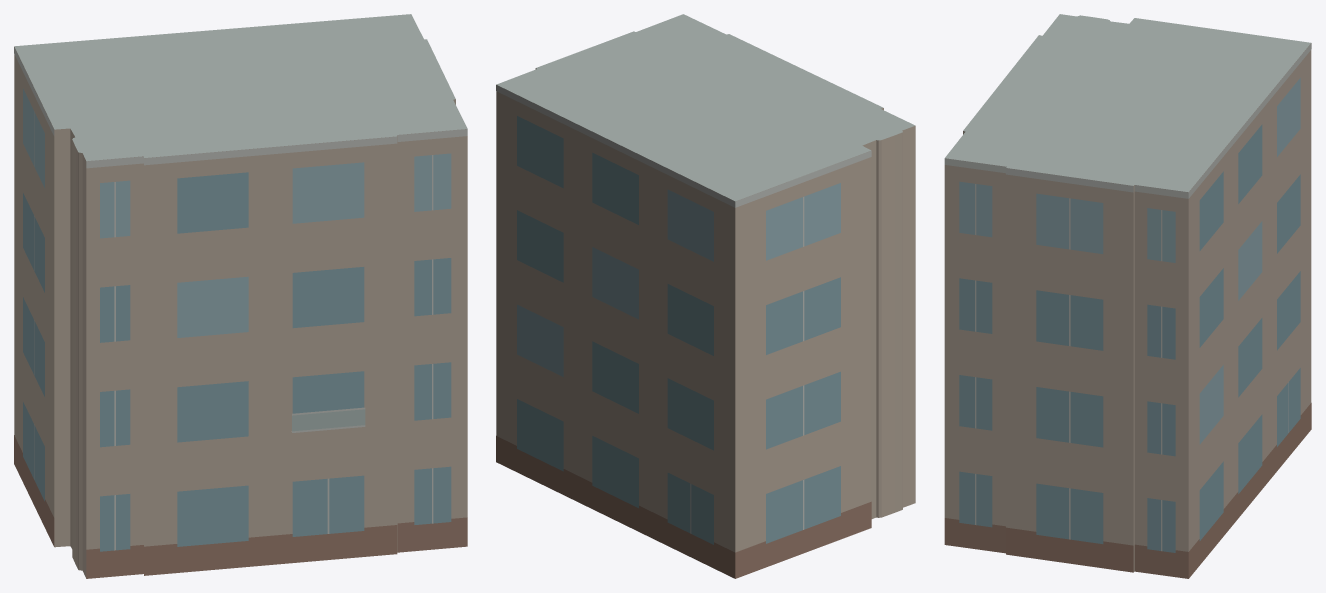
The model's file is survey-upis-32537573.glb.
3 views of the same model, side by side, from view 1: azimuth 30°, elevation 25°; view 2: azimuth 150°, elevation 25°; view 3: azimuth 270°, elevation 25° (orthographic). The views are drawn at different scales.
Parts seen in each view (by area): view 1: survey-upis-32537573.tmp; view 2: survey-upis-32537573.tmp; view 3: survey-upis-32537573.tmp.
Boxes of the visible parts, x1,y1,x2,y2 form: survey-upis-32537573.tmp: [14, 14, 467, 578]; survey-upis-32537573.tmp: [496, 14, 915, 578]; survey-upis-32537573.tmp: [944, 14, 1311, 578].
Bounding box in the file's own units: 14.05 × 14.2 × 12.22.
